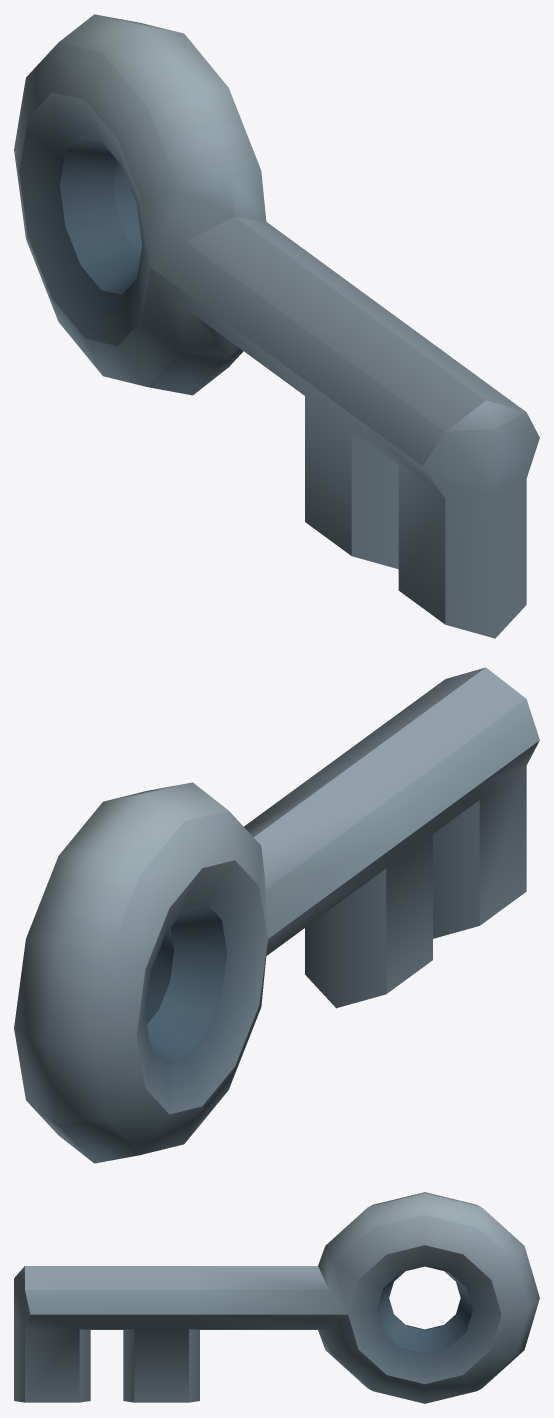
File: key_b.glb
3 views of the same model, one above another, from view 1: azimuth 30°, elevation 25°; view 2: azimuth 150°, elevation 25°; view 3: azimuth 270°, elevation 25° (orthographic). The views are drawn at different scales.
Parts seen in each view (by area): view 1: key_B; view 2: key_B; view 3: key_B.
Part boxes in pixels (x1,y1,x2,y2): key_B: (14, 14, 539, 638); key_B: (14, 667, 539, 1163); key_B: (14, 1192, 539, 1403).
Size of the model in its own units: 0.1448 by 0.4209 by 0.9621.
Materials: 1 (1 with a texture image).
